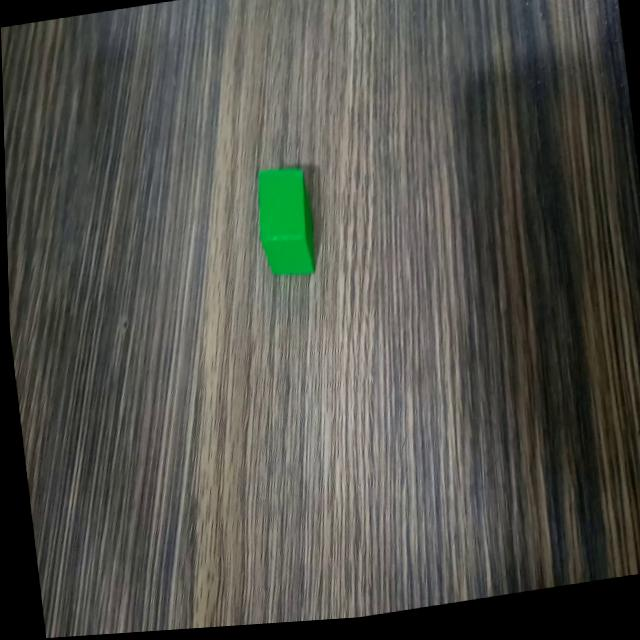cube: (248, 158, 322, 289)
